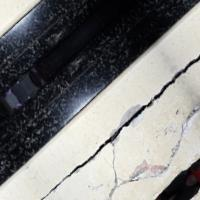crack: (6, 66, 199, 199)
